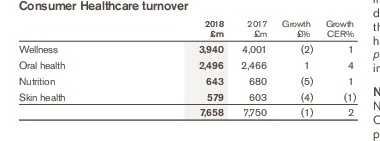table: (0, 0, 380, 141)
